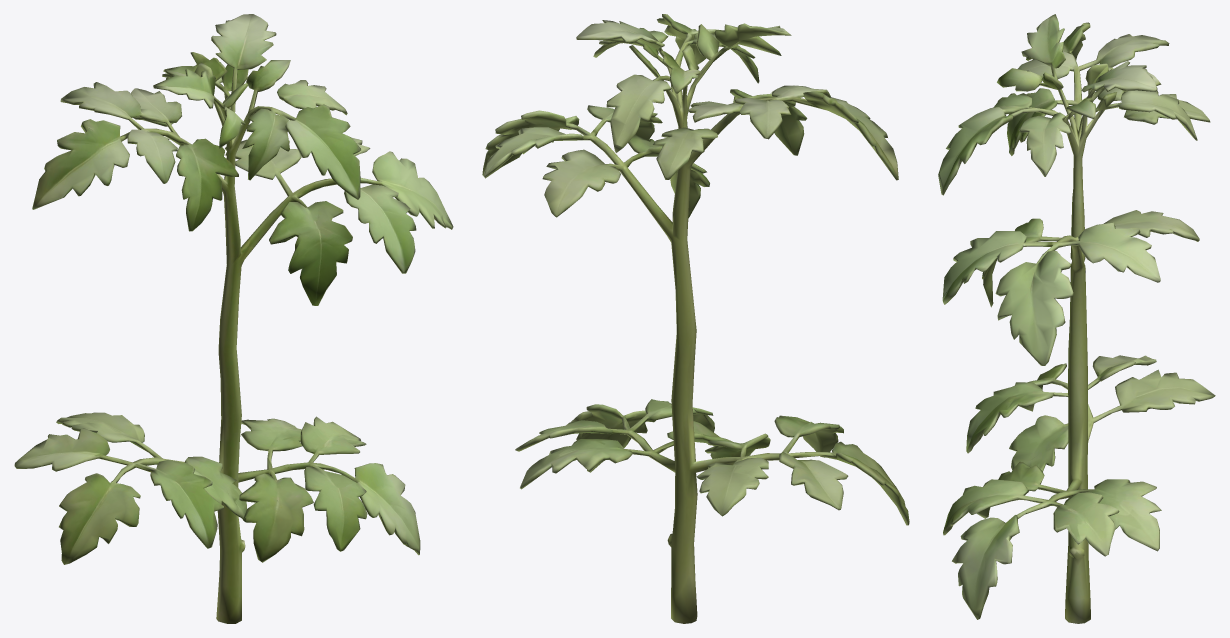
The model's file is vegetative.glb.
3 views of the same model, side by side, from view 1: azimuth 30°, elevation 25°; view 2: azimuth 150°, elevation 25°; view 3: azimuth 270°, elevation 25° (orthographic). The views are drawn at different scales.
Visible parts, largest first — view 1: tripo_node_096d245e-aaf6-4186-88b8-d7c0da42ab75; view 2: tripo_node_096d245e-aaf6-4186-88b8-d7c0da42ab75; view 3: tripo_node_096d245e-aaf6-4186-88b8-d7c0da42ab75.
Part boxes in pixels (bbox=[...]): tripo_node_096d245e-aaf6-4186-88b8-d7c0da42ab75: bbox=[14, 14, 453, 623]; tripo_node_096d245e-aaf6-4186-88b8-d7c0da42ab75: bbox=[482, 14, 909, 623]; tripo_node_096d245e-aaf6-4186-88b8-d7c0da42ab75: bbox=[938, 14, 1215, 623].
Size of the model in its own units: 0.7498 by 0.9999 by 0.4444.
Materials: 1 (1 with a texture image).
